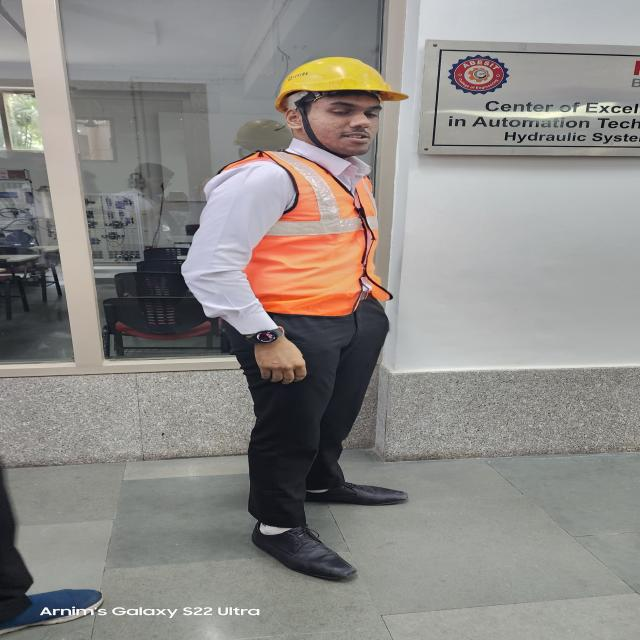safe: (183, 45, 436, 586)
